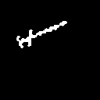double_crochet: (17, 21, 66, 47)
